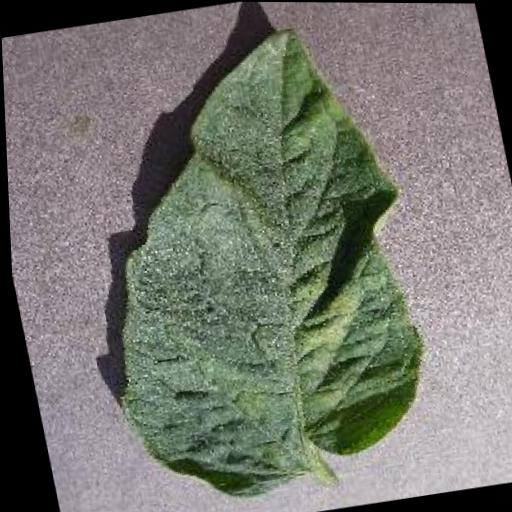Spider Mites: (51, 14, 452, 512)
